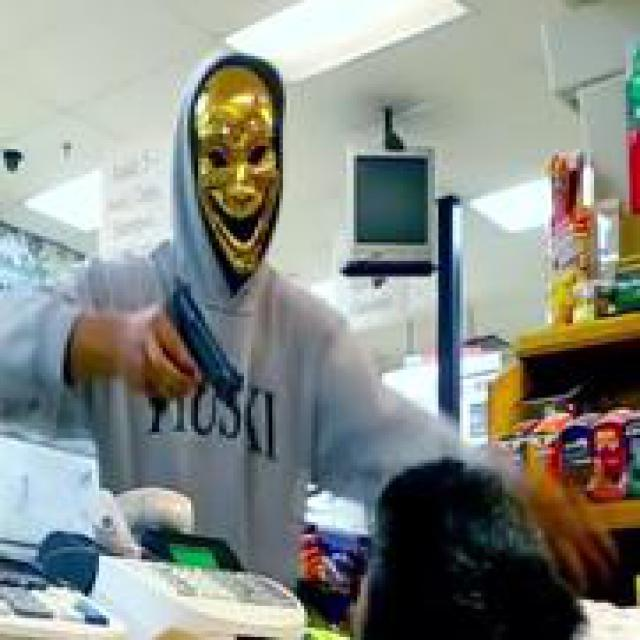Gun: (134, 276, 244, 398)
